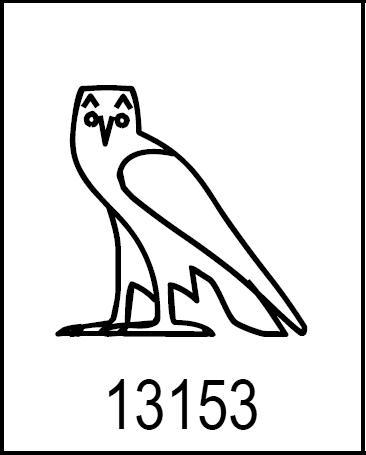Owl: (53, 79, 315, 344)
